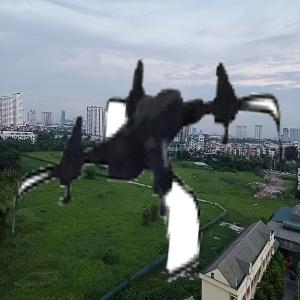drone: (18, 26, 286, 294)
